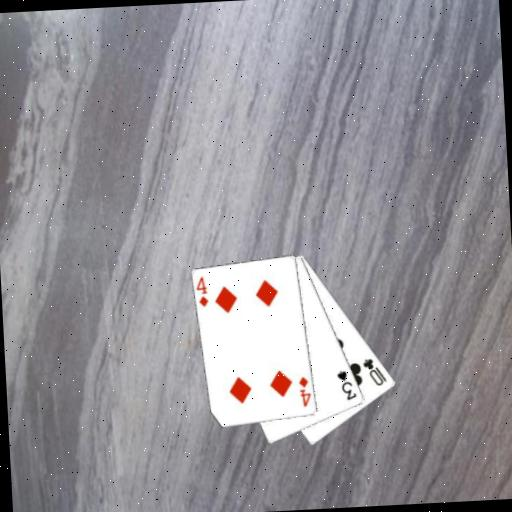10C: (360, 355, 389, 389)
3S: (334, 367, 359, 402)
4D: (194, 274, 211, 310), (296, 373, 313, 408)
